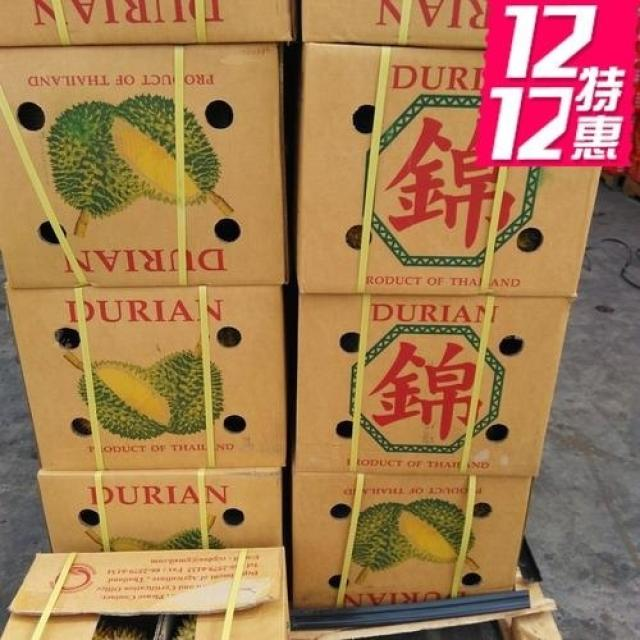box: (297, 43, 601, 298), (0, 43, 288, 289), (5, 280, 286, 471), (295, 293, 573, 476), (291, 459, 534, 611), (0, 547, 292, 639), (36, 468, 282, 553), (0, 0, 296, 46), (302, 0, 487, 48)
